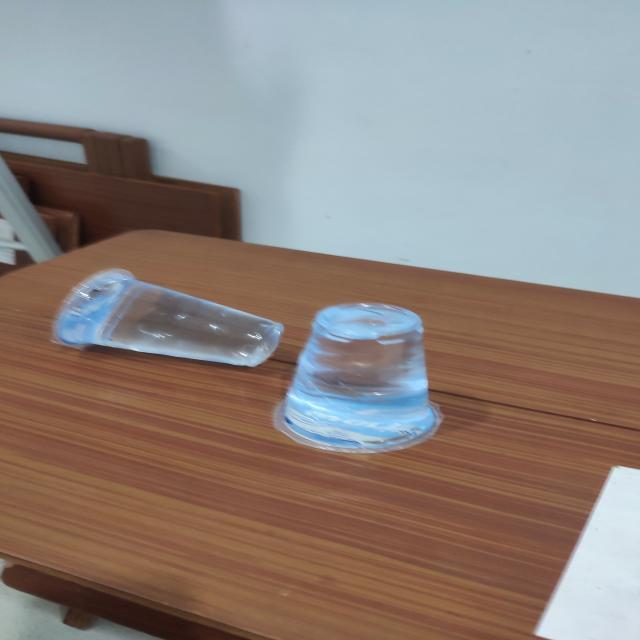air gelas: (262, 303, 462, 455), (48, 265, 302, 367)
